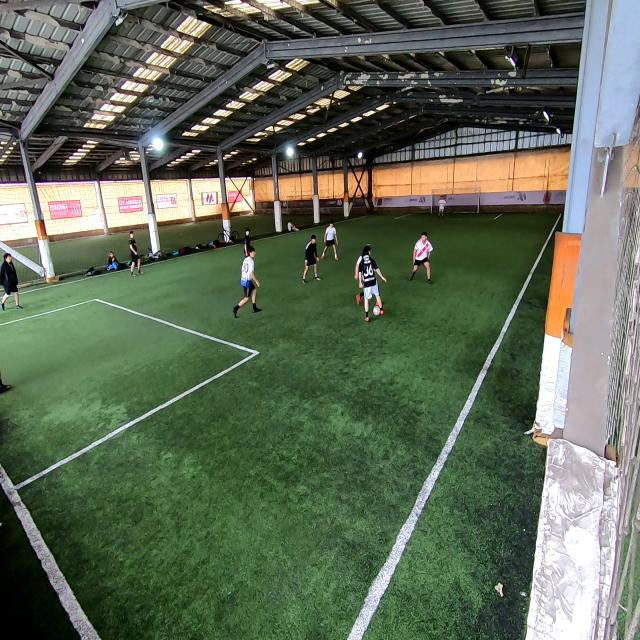BALON: (373, 306, 380, 316)
